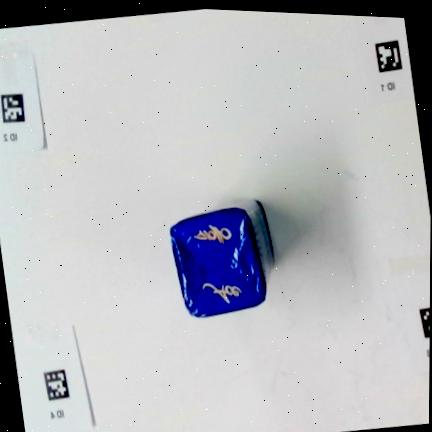cracker_ace: (168, 197, 275, 318)
